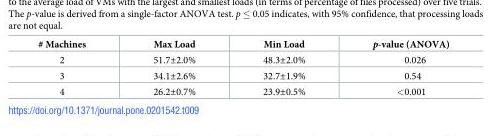table: (37, 37, 448, 97)
table column: (118, 37, 228, 97), (228, 37, 338, 97), (338, 37, 448, 97), (37, 37, 118, 97)
table column header: (37, 37, 448, 51)
table row: (37, 51, 448, 67), (37, 67, 448, 83), (37, 37, 448, 51), (37, 83, 448, 97)
